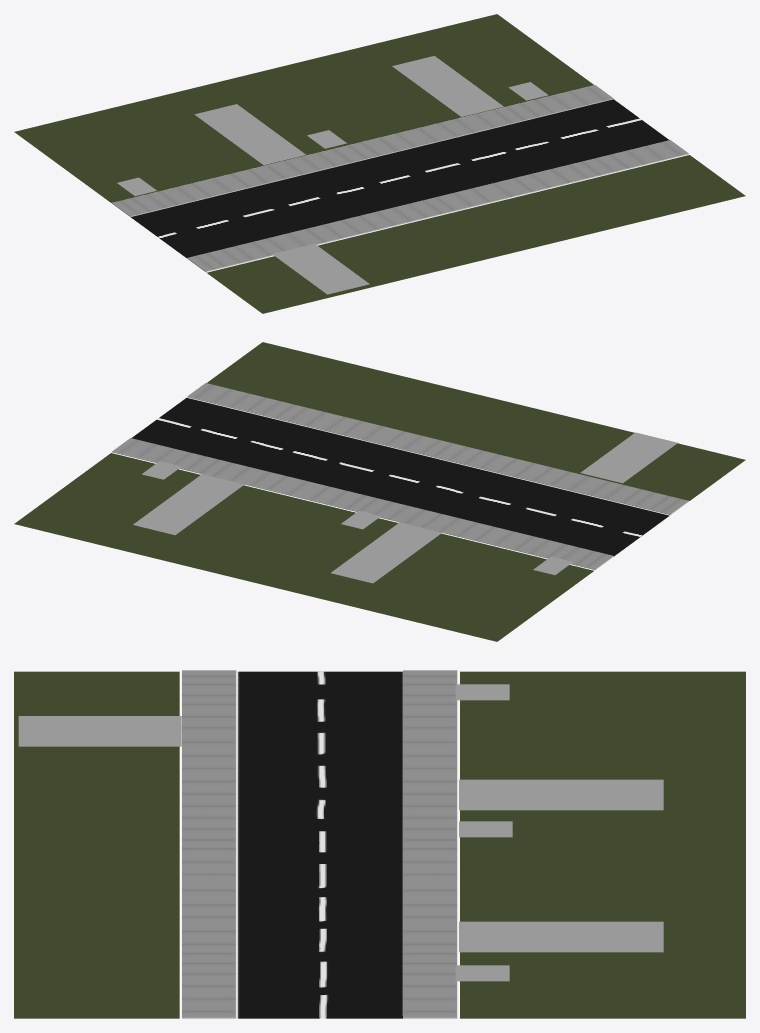
File: EXTENV_Ground.fbx
The picture shows the model from 3 angles, top to bottom: view 1: azimuth 30°, elevation 25°; view 2: azimuth 150°, elevation 25°; view 3: azimuth 270°, elevation 25°; orthographic projection. The views are drawn at different scales.
Visible parts, largest first — view 1: field1, street, field, sidewalk_02, sidewalk_01, pPlane28, pPlane27, pPlane24; view 2: field1, street, field, sidewalk_01, sidewalk_02, pPlane28, pPlane27, pPlane24; view 3: field1, street, field, sidewalk_01, sidewalk_02, pPlane27, pPlane28, pPlane24, pPlane26, pPlane25, pPlane20.
Part boxes in pixels (left/top/right/bottom): field1: left=14, top=14, right=593, bottom=202; street: left=131, top=99, right=669, bottom=258; field: left=206, top=155, right=745, bottom=313; sidewalk_02: left=112, top=85, right=613, bottom=216; sidewalk_01: left=187, top=140, right=688, bottom=271; pPlane28: left=194, top=104, right=305, bottom=164; pPlane27: left=392, top=56, right=503, bottom=116; pPlane24: left=272, top=243, right=369, bottom=294; field1: left=14, top=453, right=593, bottom=641; street: left=131, top=397, right=669, bottom=556; field: left=207, top=342, right=745, bottom=500; sidewalk_01: left=187, top=383, right=688, bottom=514; sidewalk_02: left=112, top=438, right=613, bottom=569; pPlane28: left=331, top=522, right=441, bottom=583; pPlane27: left=133, top=474, right=244, bottom=535; pPlane24: left=580, top=432, right=677, bottom=483; field1: left=460, top=671, right=745, bottom=1018; street: left=237, top=671, right=402, bottom=1018; field: left=14, top=671, right=179, bottom=1018; sidewalk_01: left=182, top=670, right=236, bottom=1018; sidewalk_02: left=403, top=670, right=457, bottom=1018; pPlane27: left=459, top=921, right=663, bottom=952; pPlane28: left=459, top=779, right=663, bottom=810; pPlane24: left=18, top=716, right=181, bottom=746; pPlane26: left=455, top=684, right=509, bottom=700; pPlane25: left=455, top=965, right=509, bottom=981; pPlane20: left=459, top=821, right=512, bottom=837.
Size of the model in its own units: 20237 by 95.41 by 18039.
4 materials, 2 textured.
